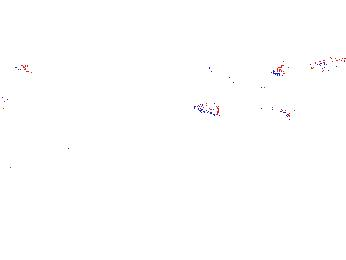glassfish: (2, 82, 71, 141), (190, 96, 301, 130)
red belly glassfish: (309, 56, 345, 72)
redtail glassfish: (208, 60, 272, 96), (227, 64, 284, 84)
